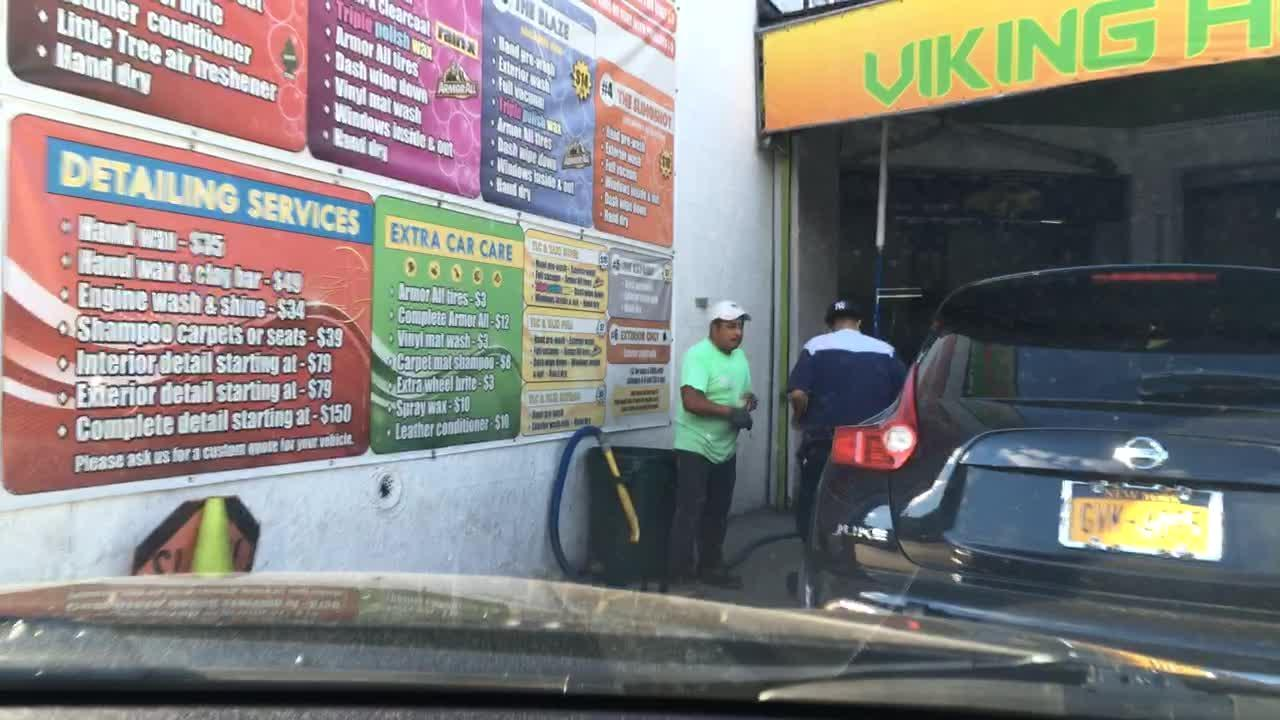Nissan: (1108, 433, 1172, 477)
